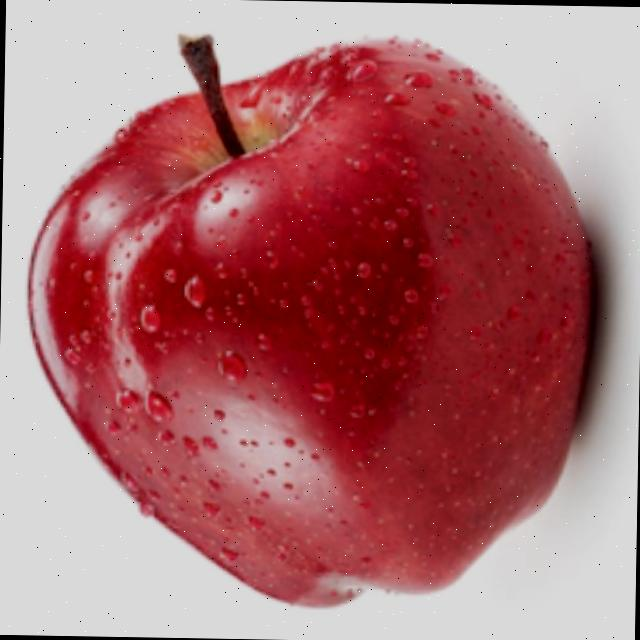Ripe: (9, 23, 602, 617)
